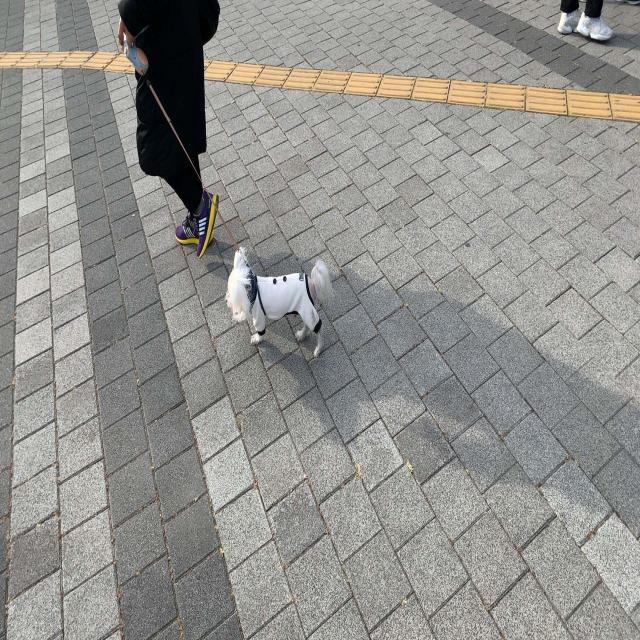Leashed_Dog: (165, 100, 332, 362)
